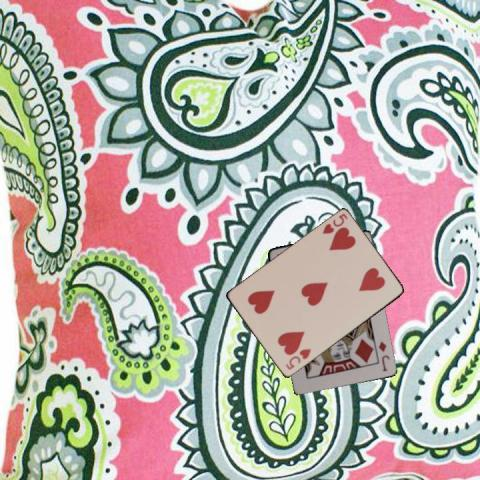5h: (282, 346, 312, 371), (319, 211, 349, 236)
Jd: (375, 338, 391, 373)
